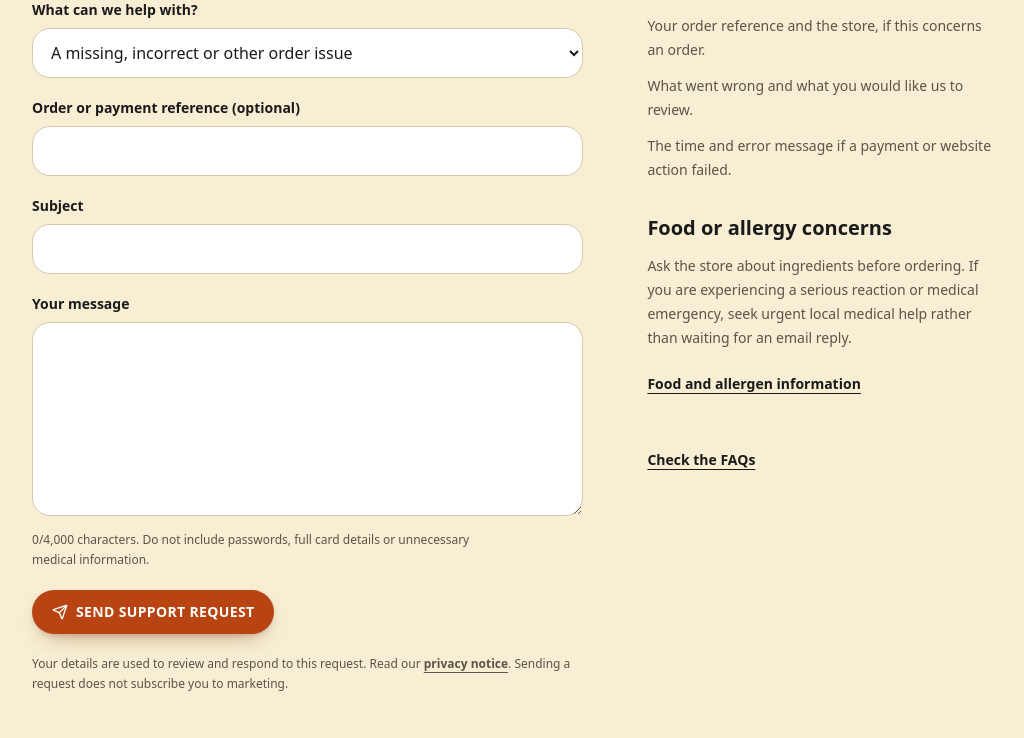
Test: Support form feedback and accessibility › announces validation errors, focuses the summary, and links to invalid controls
Later steps or results of the test are not shown.
(page scrolled)
Click the button "Send support request": click(153, 612) top-left (32, 590), bottom-right (274, 634)
(page scrolled)
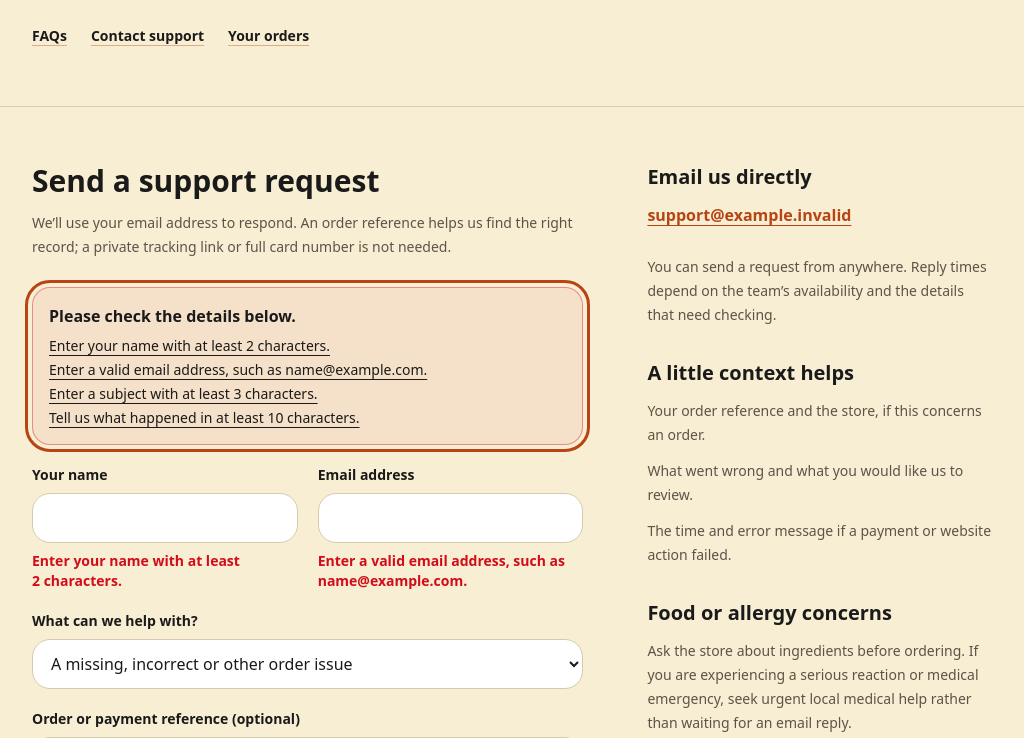
Now the link with id "support-name" is shown, box top-left (49, 336), bottom-right (330, 355)
